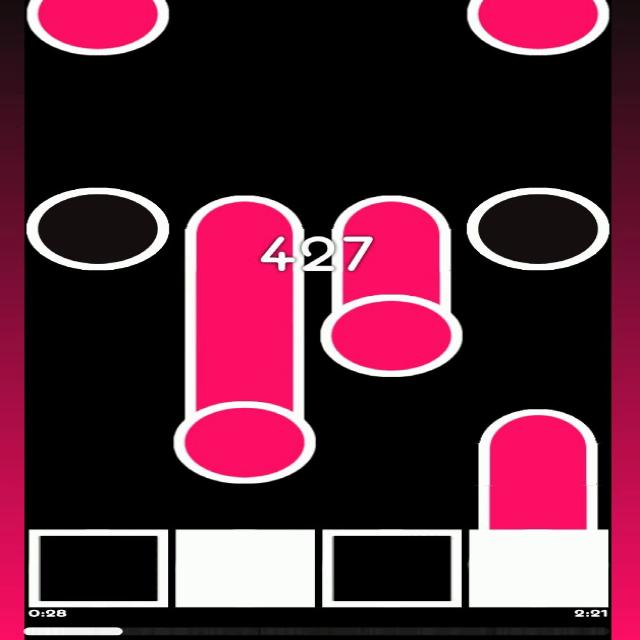end_hold: (323, 182, 454, 244), (181, 182, 307, 246), (472, 389, 601, 447)
note: (466, 186, 610, 270), (28, 188, 170, 270)
start_hold: (175, 389, 316, 485), (322, 284, 463, 376), (26, 0, 172, 57), (466, 0, 610, 57)
